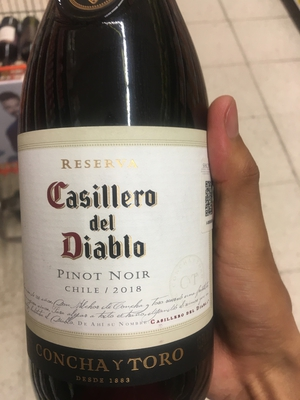casillero del diablo pinot noir: (20, 6, 241, 400)
